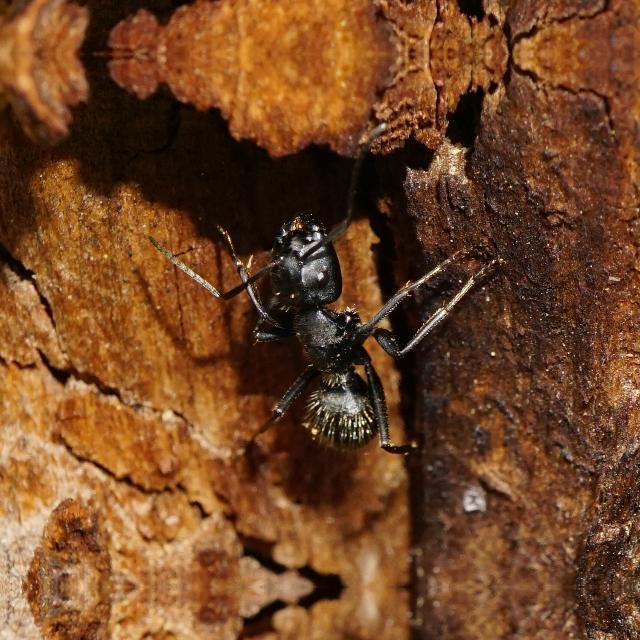Camponotus: (185, 140, 473, 492)
